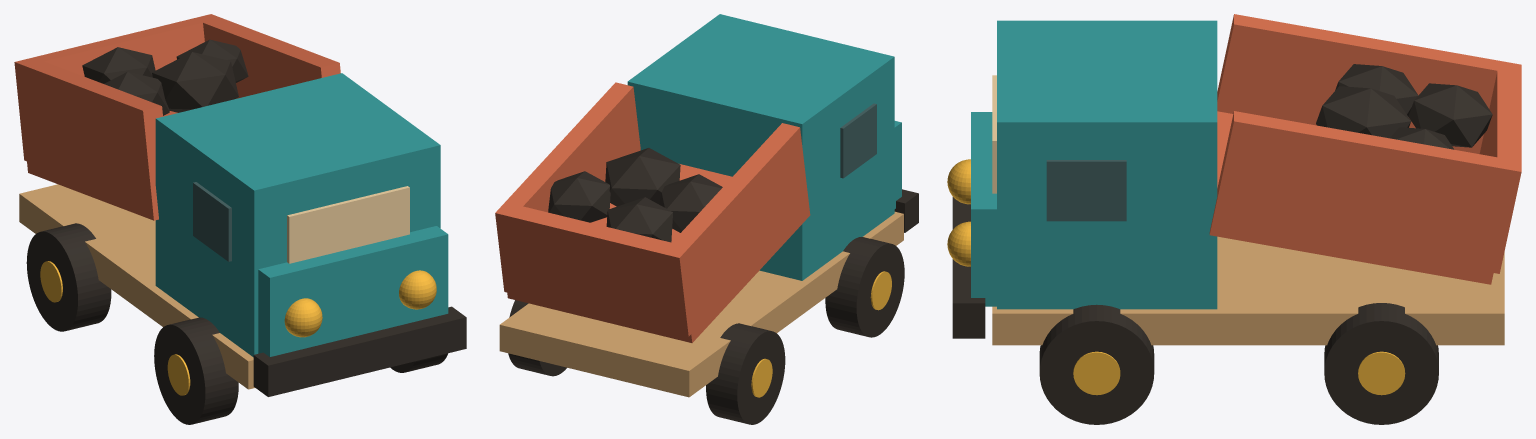
File: truck-mining-dump.glb
3 renders of one model, left to right at view 1: azimuth 30°, elevation 25°; view 2: azimuth 150°, elevation 25°; view 3: azimuth 270°, elevation 25°, orthographic. The views are drawn at different scales.
Visible parts, largest first — view 1: Dump_Cab, Dump_Hood, Dump_Bed_Left_Wall, Dump_Chassis, Dump_Bumper, Dump_Wheel_3, Dump_Front_Window, Dump_Wheel_1, Dump_Bed_Back, Dump_Bed_Right_Wall, Dump_Rock_2, Dump_Bed_Floor (+9 smaller); view 2: Dump_Cab, Dump_Chassis, Dump_Bed_Back, Dump_Bed_Left_Wall, Dump_Bed_Right_Wall, Dump_Wheel_3, Dump_Wheel_1, Dump_Bed_Floor, Dump_Rock_2, Dump_Rock_3, Dump_Rock_4, Dump_Rock_1 (+6 smaller); view 3: Dump_Cab, Dump_Bed_Right_Wall, Dump_Chassis, Dump_Bed_Left_Wall, Dump_Wheel_4, Dump_Wheel_2, Dump_Bed_Floor, Dump_Bed_Back, Dump_Right_Window, Dump_Hood, Dump_Rock_4, Dump_Rock_2 (+8 smaller).
Part boxes in pixels (bbox=[...]): Dump_Cab: bbox=[155, 73, 440, 357]; Dump_Hood: bbox=[258, 226, 448, 356]; Dump_Bed_Left_Wall: bbox=[18, 61, 162, 208]; Dump_Chassis: bbox=[19, 184, 254, 389]; Dump_Bumper: bbox=[253, 306, 466, 396]; Dump_Wheel_3: bbox=[26, 223, 111, 331]; Dump_Front_Window: bbox=[287, 186, 409, 263]; Dump_Wheel_1: bbox=[154, 317, 238, 424]; Dump_Bed_Back: bbox=[14, 14, 221, 163]; Dump_Bed_Right_Wall: bbox=[203, 18, 340, 98]; Dump_Rock_2: bbox=[152, 52, 238, 112]; Dump_Bed_Floor: bbox=[25, 147, 158, 220]; Dump_Cab: bbox=[627, 14, 894, 280]; Dump_Chassis: bbox=[499, 211, 903, 397]; Dump_Bed_Back: bbox=[495, 202, 698, 336]; Dump_Bed_Left_Wall: bbox=[665, 123, 808, 331]; Dump_Bed_Right_Wall: bbox=[501, 82, 640, 213]; Dump_Wheel_3: bbox=[706, 323, 785, 424]; Dump_Wheel_1: bbox=[825, 237, 904, 337]; Dump_Bed_Floor: bbox=[507, 164, 810, 342]; Dump_Rock_2: bbox=[605, 148, 680, 206]; Dump_Rock_3: bbox=[548, 171, 610, 222]; Dump_Rock_4: bbox=[606, 197, 672, 242]; Dump_Rock_1: bbox=[659, 174, 722, 232]; Dump_Cab: bbox=[997, 20, 1217, 309]; Dump_Bed_Right_Wall: bbox=[1212, 111, 1515, 272]; Dump_Chassis: bbox=[992, 236, 1504, 345]; Dump_Bed_Left_Wall: bbox=[1217, 14, 1515, 153]; Dump_Wheel_4: bbox=[1324, 303, 1438, 424]; Dump_Wheel_2: bbox=[1039, 304, 1154, 424]; Dump_Bed_Floor: bbox=[1209, 111, 1496, 284]; Dump_Bed_Back: bbox=[1477, 60, 1521, 273]; Dump_Right_Window: bbox=[1046, 160, 1126, 221]; Dump_Hood: bbox=[971, 112, 996, 306]; Dump_Rock_4: bbox=[1408, 83, 1492, 147]; Dump_Rock_2: bbox=[1316, 86, 1411, 138].
Size of the model in its own units: 3.14 by 3.13 by 5.61.
